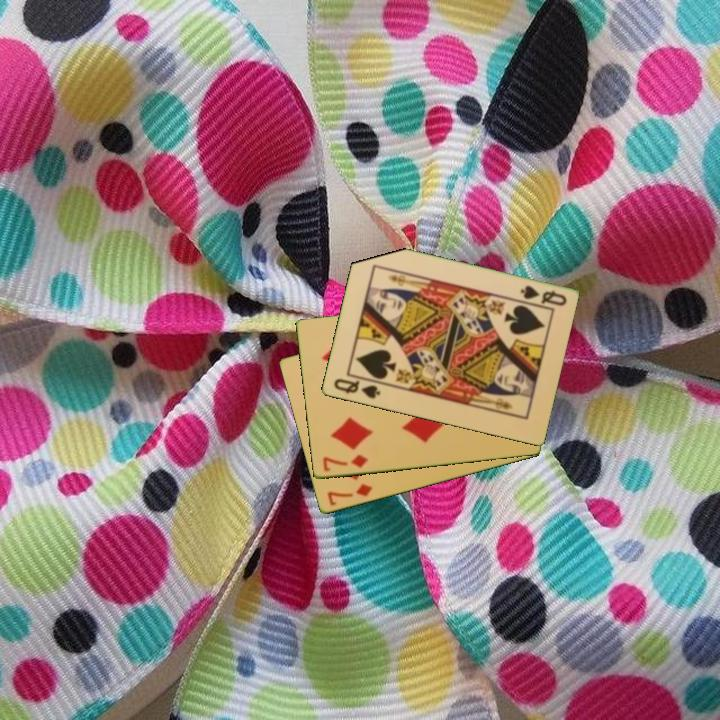7d: (324, 480, 375, 509), (319, 451, 371, 474)
Qs: (330, 375, 383, 402), (517, 282, 569, 309)
